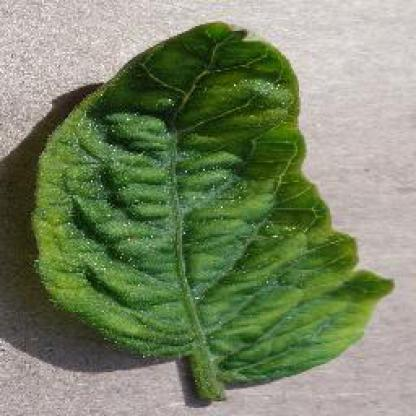bad leaf: (29, 17, 375, 408)
